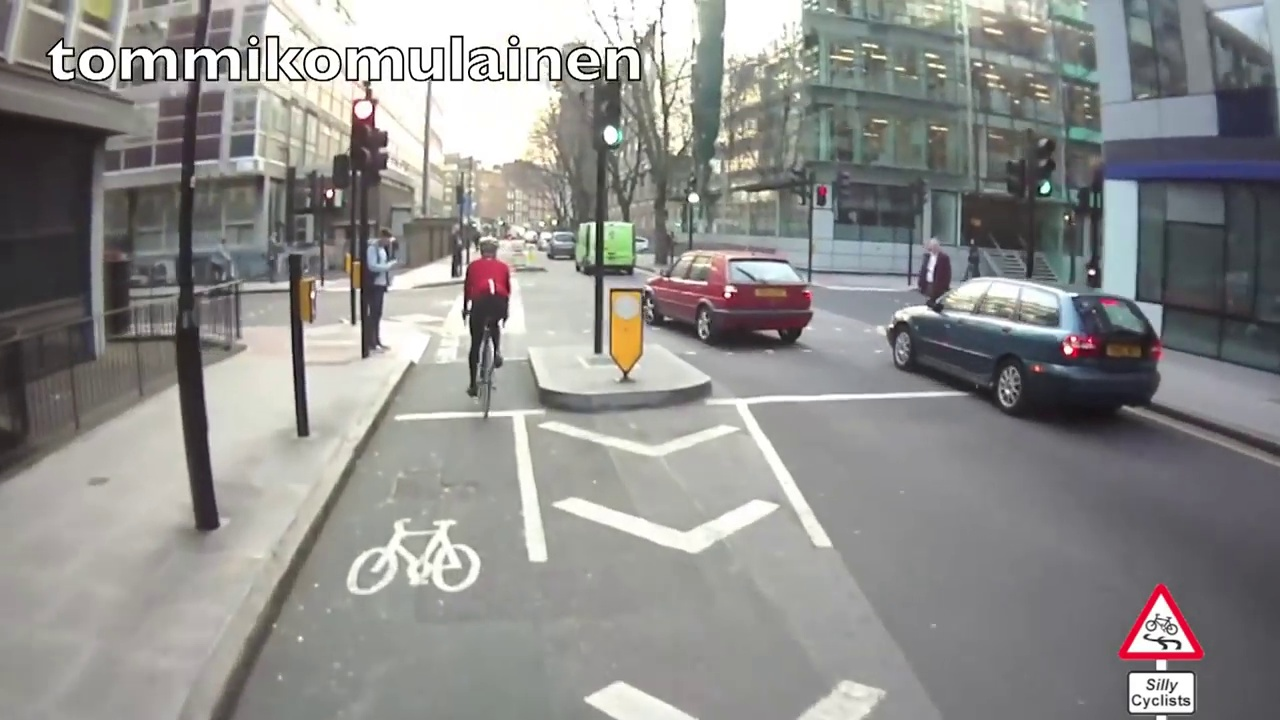cyclist_back: (454, 234, 518, 425)
